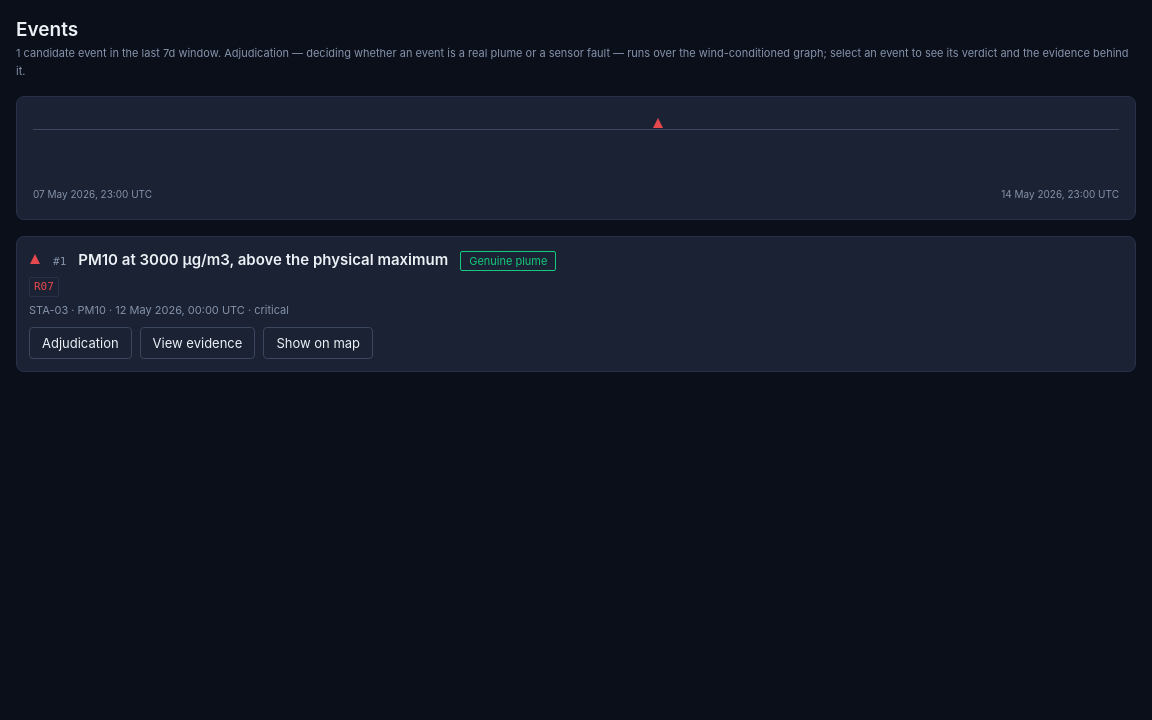
adjudication on the timeline › opens the evidence bundle when an event is selected
The width and height of the screenshot is (1152, 720).
Click the button with test id "event-adjudication-toggle" at (80, 343), box [29,327,132,359]
(page scrolled)
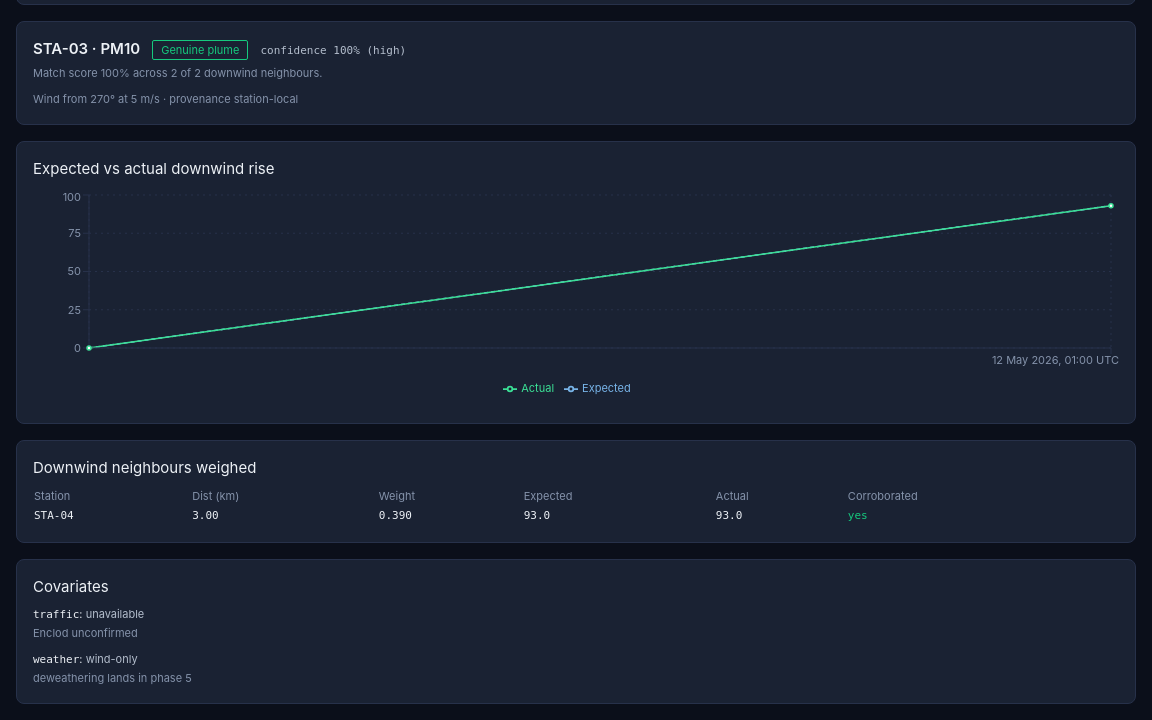
Now the element with test id "adjudication-detail" is shown
Now the table with test id "adjudication-neighbours" is shown, box [33,486,1119,526]
Now the list with test id "adjudication-covariates" shows "traffic", box [33,608,79,621]
